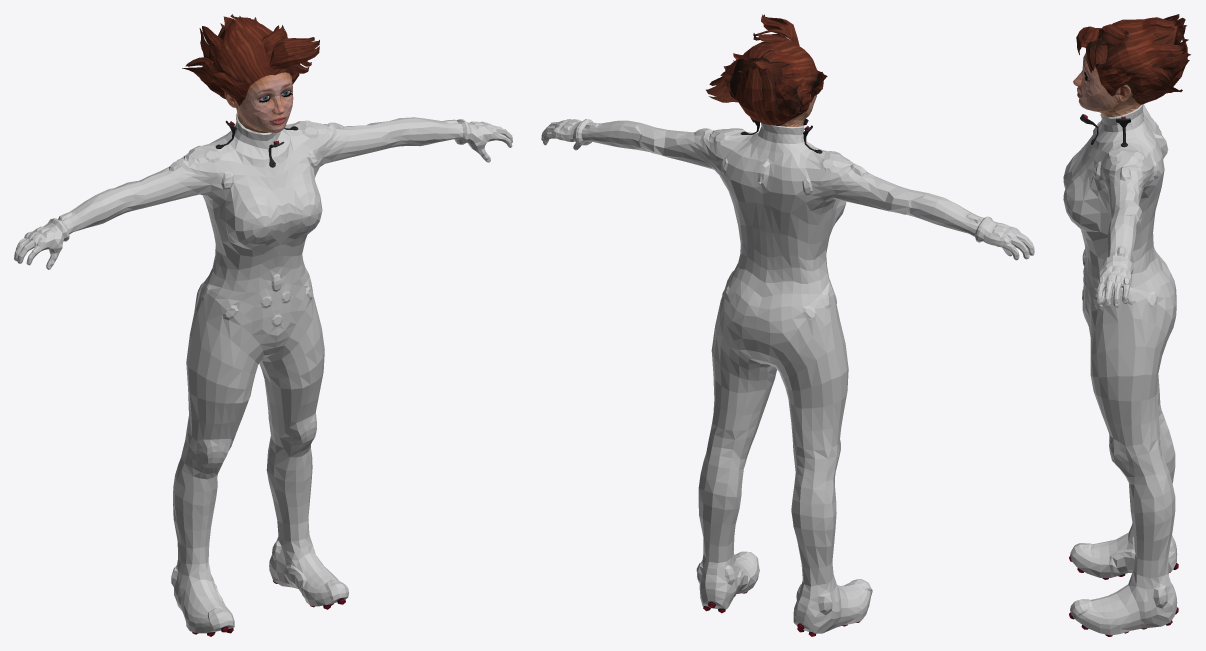
File: Karen_Suit.obj
The picture shows the model from 3 angles, left to right: view 1: azimuth 30°, elevation 25°; view 2: azimuth 150°, elevation 25°; view 3: azimuth 270°, elevation 25°; orthographic projection.
Size of the model in its own units: 8.4 by 9.43 by 1.87.
